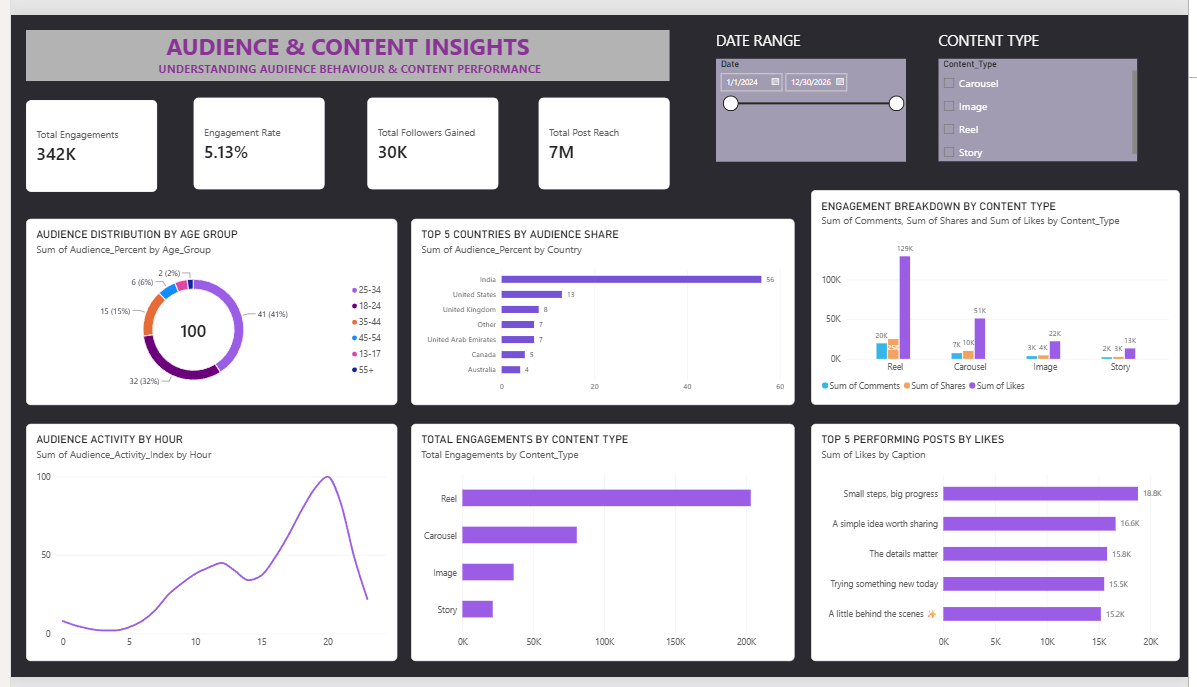

Layout of this report page (visuals, bound fields, positions):
{"tool":"powerbi","page":{"name":"AUDIENCE AND CONTENT INSIGHT","canvas":[1920,1080],"ordinal":1},"visuals":[{"type":"textbox","box":[24.5,24.5,1049.9,83.6],"z":0},{"type":"slicer","fields":{"Values":["Posts.Date"]},"box":[1149.8,71.4,309.9,167.2],"z":1000},{"type":"slicer","fields":{"Values":["Posts.Content_Type"]},"box":[1512.7,71.4,324.1,167.2],"z":2000},{"type":"cardVisual","fields":{"Data":["Posts.Total Engagements"]},"box":[24.5,138.6,214.1,150.3],"z":3000},{"type":"cardVisual","fields":{"Data":["Calendar.Engagement Rate"]},"box":[297.6,134.6,214,150],"z":4000},{"type":"cardVisual","fields":{"Data":["Posts.Total Followers Gained"]},"box":[581,134.6,214.1,150.3],"z":5000},{"type":"cardVisual","fields":{"Data":["Posts.Total Post Reach"]},"box":[860.3,134.6,214,150],"z":6000},{"type":"donutChart","title":"AUDIENCE DISTRIBUTION BY AGE GROUP","fields":{"Category":["Age_Demographics.Age_Group"],"Y":["Sum(Age_Demographics.Audience_Percent)"]},"box":[24.5,332.3,605.5,303.8],"z":7000},{"type":"clusteredBarChart","title":"TOP 5 COUNTRIES BY AUDIENCE SHARE","fields":{"Category":["Top_Countries.Country"],"Y":["Sum(Top_Countries.Audience_Percent)"]},"box":[652.4,332.3,625.9,303.8],"z":8000},{"type":"lineChart","title":"AUDIENCE ACTIVITY BY HOUR","fields":{"Category":["Hourly_Activity.Hour"],"Y":["Sum(Hourly_Activity.Audience_Activity_Index)"]},"box":[24.5,666.6,605.5,387.3],"z":9000},{"type":"clusteredBarChart","title":"TOTAL ENGAGEMENTS BY CONTENT TYPE","fields":{"Category":["Posts.Content_Type"],"Y":["Posts.Total Engagements"]},"box":[652.4,666.6,625.9,387.3],"z":10000},{"type":"clusteredColumnChart","title":"ENGAGEMENT BREAKDOWN BY CONTENT TYPE","fields":{"Category":["Posts.Content_Type"],"Y":["Sum(Posts.Comments)","Sum(Posts.Shares)","Sum(Posts.Likes)"]},"box":[1304.7,285.4,601.4,350.6],"z":11000},{"type":"clusteredBarChart","title":"TOP 5 PERFORMING POSTS BY LIKES","fields":{"Category":["Posts.Caption"],"Y":["Sum(Posts.Likes)"]},"box":[1304.7,666.6,601.4,387.3],"z":12000},{"type":"textbox","box":[1149.8,24.5,295.6,46.9],"z":13000},{"type":"textbox","box":[100,100,300,300],"z":14000},{"type":"textbox","box":[1512.7,24.5,324.1,46.9],"z":15000}]}

Visuals, with their boxes in screenshot pixels (x1, y1, x2, y2), scaled from the page's 1920x1080 canvas onto the 1197x687 screenshot:
textbox: 15,16,670,69
slicer - Posts.Date: 717,45,910,152
slicer - Posts.Content_Type: 943,45,1145,152
cardVisual - Posts.Total Engagements: 15,88,149,184
cardVisual - Calendar.Engagement Rate: 186,86,319,181
cardVisual - Posts.Total Followers Gained: 362,86,496,181
cardVisual - Posts.Total Post Reach: 536,86,670,181
"AUDIENCE DISTRIBUTION BY AGE GROUP" donutChart: 15,211,393,405
"TOP 5 COUNTRIES BY AUDIENCE SHARE" clusteredBarChart: 407,211,797,405
"AUDIENCE ACTIVITY BY HOUR" lineChart: 15,424,393,670
"TOTAL ENGAGEMENTS BY CONTENT TYPE" clusteredBarChart: 407,424,797,670
"ENGAGEMENT BREAKDOWN BY CONTENT TYPE" clusteredColumnChart: 813,182,1188,405
"TOP 5 PERFORMING POSTS BY LIKES" clusteredBarChart: 813,424,1188,670
textbox: 717,16,901,45
textbox: 62,64,249,254
textbox: 943,16,1145,45
